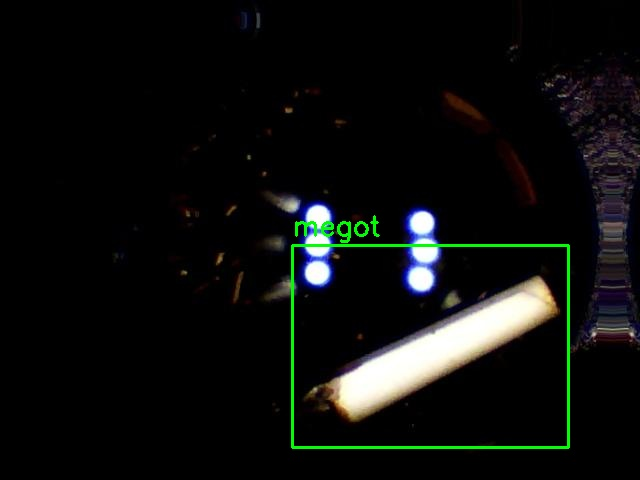megot: (292, 245, 568, 447)
